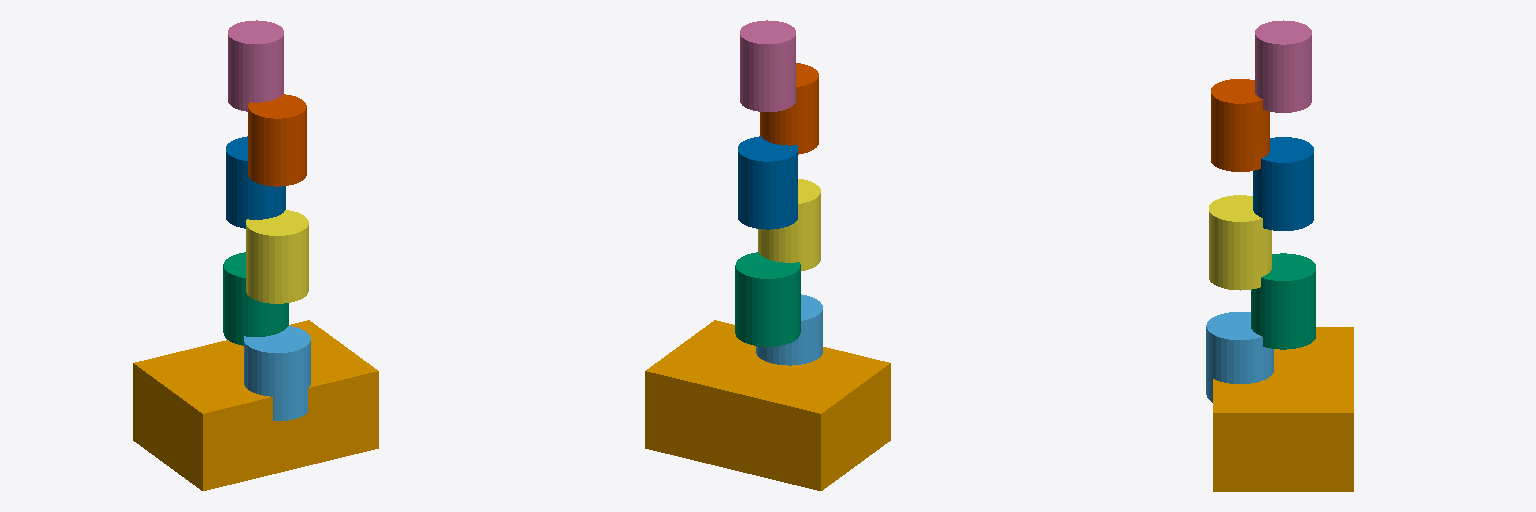
URDF robot description (skydio_x2_description):
<?xml version="1.0" encoding="utf-8"?>
<!-- =================================================================================== -->
<!-- 现实基准原件: skydio_x2_description (urdf/skydio_x2.urdf)                                          -->
<!-- 机型描述: Skydio X2 自主避障四旋翼无人机 MJCF (.xml) 基准                                                                   -->
<!-- 运动学拓扑统计: 7 连杆 / 6 关节                                                    -->
<!-- =================================================================================== -->
<robot name="skydio_x2_description">
  <link name="base_link">
    <inertial>
      <origin xyz="0 0 0.08" rpy="0 0 0"/>
      <mass value="16.40"/>
      <inertia ixx="0.185" ixy="0.0" ixz="0.0" iyy="0.240" iyz="0.0" izz="0.295"/>
    </inertial>
    <visual>
      <origin xyz="0 0 0.08" rpy="0 0 0"/>
      <geometry><box size="0.38 0.26 0.16"/></geometry>
    </visual>
    <collision>
      <origin xyz="0 0 0.08" rpy="0 0 0"/>
      <geometry><box size="0.38 0.26 0.16"/></geometry>
    </collision>
  </link>

  <link name="link_1">
    <inertial>
      <origin xyz="0 0 0.06" rpy="0 0 0"/>
      <mass value="3.200"/>
      <inertia ixx="0.014" ixy="0.0" ixz="0.0" iyy="0.014" iyz="0.0" izz="0.008"/>
    </inertial>
    <visual>
      <origin xyz="0 0 0.06" rpy="0 0 0"/>
      <geometry><cylinder radius="0.063" length="0.14"/></geometry>
    </visual>
  </link>
  <joint name="joint_1" type="revolute">
    <parent link="base_link"/>
    <child link="link_1"/>
    <origin xyz="0 -0.080 0.12" rpy="0 0 0"/>
    <axis xyz="1 0 0"/>
    <limit lower="-2.7925" upper="2.7925" effort="85.0" velocity="6.28"/>
  </joint>

  <link name="link_2">
    <inertial>
      <origin xyz="0 0 0.06" rpy="0 0 0"/>
      <mass value="2.263"/>
      <inertia ixx="0.014" ixy="0.0" ixz="0.0" iyy="0.014" iyz="0.0" izz="0.008"/>
    </inertial>
    <visual>
      <origin xyz="0 0 0.06" rpy="0 0 0"/>
      <geometry><cylinder radius="0.061" length="0.14"/></geometry>
    </visual>
  </link>
  <joint name="joint_2" type="revolute">
    <parent link="link_1"/>
    <child link="link_2"/>
    <origin xyz="0 0.080 0.12" rpy="0 0 0"/>
    <axis xyz="0 1 0"/>
    <limit lower="-2.7925" upper="2.7925" effort="85.0" velocity="6.28"/>
  </joint>

  <link name="link_3">
    <inertial>
      <origin xyz="0 0 0.06" rpy="0 0 0"/>
      <mass value="1.848"/>
      <inertia ixx="0.014" ixy="0.0" ixz="0.0" iyy="0.014" iyz="0.0" izz="0.008"/>
    </inertial>
    <visual>
      <origin xyz="0 0 0.06" rpy="0 0 0"/>
      <geometry><cylinder radius="0.059" length="0.14"/></geometry>
    </visual>
  </link>
  <joint name="joint_3" type="revolute">
    <parent link="link_2"/>
    <child link="link_3"/>
    <origin xyz="0 -0.080 0.12" rpy="0 0 0"/>
    <axis xyz="0 0 1"/>
    <limit lower="-2.7925" upper="2.7925" effort="85.0" velocity="6.28"/>
  </joint>

  <link name="link_4">
    <inertial>
      <origin xyz="0 0 0.06" rpy="0 0 0"/>
      <mass value="1.600"/>
      <inertia ixx="0.014" ixy="0.0" ixz="0.0" iyy="0.014" iyz="0.0" izz="0.008"/>
    </inertial>
    <visual>
      <origin xyz="0 0 0.06" rpy="0 0 0"/>
      <geometry><cylinder radius="0.057" length="0.14"/></geometry>
    </visual>
  </link>
  <joint name="joint_4" type="revolute">
    <parent link="link_3"/>
    <child link="link_4"/>
    <origin xyz="0 0.080 0.12" rpy="0 0 0"/>
    <axis xyz="0 1 0"/>
    <limit lower="-2.7925" upper="2.7925" effort="85.0" velocity="6.28"/>
  </joint>

  <link name="link_5">
    <inertial>
      <origin xyz="0 0 0.06" rpy="0 0 0"/>
      <mass value="1.431"/>
      <inertia ixx="0.014" ixy="0.0" ixz="0.0" iyy="0.014" iyz="0.0" izz="0.008"/>
    </inertial>
    <visual>
      <origin xyz="0 0 0.06" rpy="0 0 0"/>
      <geometry><cylinder radius="0.055" length="0.14"/></geometry>
    </visual>
  </link>
  <joint name="joint_5" type="revolute">
    <parent link="link_4"/>
    <child link="link_5"/>
    <origin xyz="0 -0.080 0.12" rpy="0 0 0"/>
    <axis xyz="1 0 0"/>
    <limit lower="-2.7925" upper="2.7925" effort="85.0" velocity="6.28"/>
  </joint>

  <link name="link_6">
    <inertial>
      <origin xyz="0 0 0.06" rpy="0 0 0"/>
      <mass value="1.306"/>
      <inertia ixx="0.014" ixy="0.0" ixz="0.0" iyy="0.014" iyz="0.0" izz="0.008"/>
    </inertial>
    <visual>
      <origin xyz="0 0 0.06" rpy="0 0 0"/>
      <geometry><cylinder radius="0.053" length="0.14"/></geometry>
    </visual>
  </link>
  <joint name="joint_6" type="revolute">
    <parent link="link_5"/>
    <child link="link_6"/>
    <origin xyz="0 0.080 0.12" rpy="0 0 0"/>
    <axis xyz="0 0 1"/>
    <limit lower="-2.7925" upper="2.7925" effort="85.0" velocity="6.28"/>
  </joint>
</robot>

--- What the picture shows (computed from the rendered views, not written in the file) ---
The picture shows the robot from 3 angles, left to right: view 1: azimuth 30°, elevation 25°; view 2: azimuth 150°, elevation 25°; view 3: azimuth 270°, elevation 25°; orthographic projection.
Robot: skydio_x2_description — 7 links, 6 joints (6 revolute); root link base_link; default pose: every joint at zero.
Visible links, largest first — view 1: base_link, link_3, link_5, link_1, link_6, link_2, link_4; view 2: base_link, link_2, link_4, link_6, link_3, link_5, link_1; view 3: base_link, link_2, link_3, link_4, link_6, link_5, link_1.
Boxes of the visible links, left/top/right/bottom form: base_link: left=133, top=320, right=378, bottom=490; link_3: left=246, top=210, right=308, bottom=303; link_5: left=248, top=94, right=306, bottom=186; link_1: left=244, top=326, right=310, bottom=420; link_6: left=228, top=20, right=283, bottom=111; link_2: left=223, top=252, right=288, bottom=345; link_4: left=226, top=136, right=285, bottom=228; base_link: left=645, top=320, right=890, bottom=490; link_2: left=735, top=252, right=800, bottom=346; link_4: left=738, top=136, right=797, bottom=229; link_6: left=740, top=20, right=795, bottom=111; link_3: left=758, top=179, right=820, bottom=270; link_5: left=760, top=63, right=818, bottom=154; link_1: left=756, top=294, right=822, bottom=365; base_link: left=1213, top=327, right=1353, bottom=491; link_2: left=1251, top=253, right=1315, bottom=349; link_3: left=1209, top=195, right=1271, bottom=290; link_4: left=1253, top=137, right=1313, bottom=230; link_6: left=1255, top=20, right=1311, bottom=112; link_5: left=1211, top=79, right=1269, bottom=171; link_1: left=1206, top=312, right=1273, bottom=402.
Bounding box of the posed robot: 0.38 × 0.273 × 0.85 m (x, y, z).
Geometry: primitives only (box / cylinder / sphere), no mesh files.
